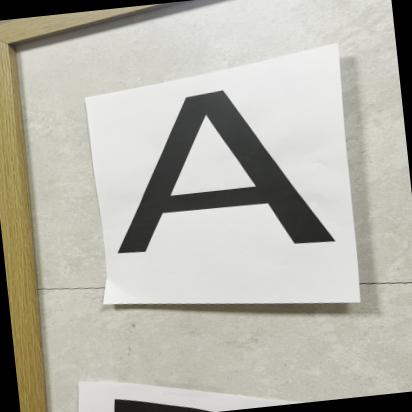seat: (84, 72, 342, 286)
